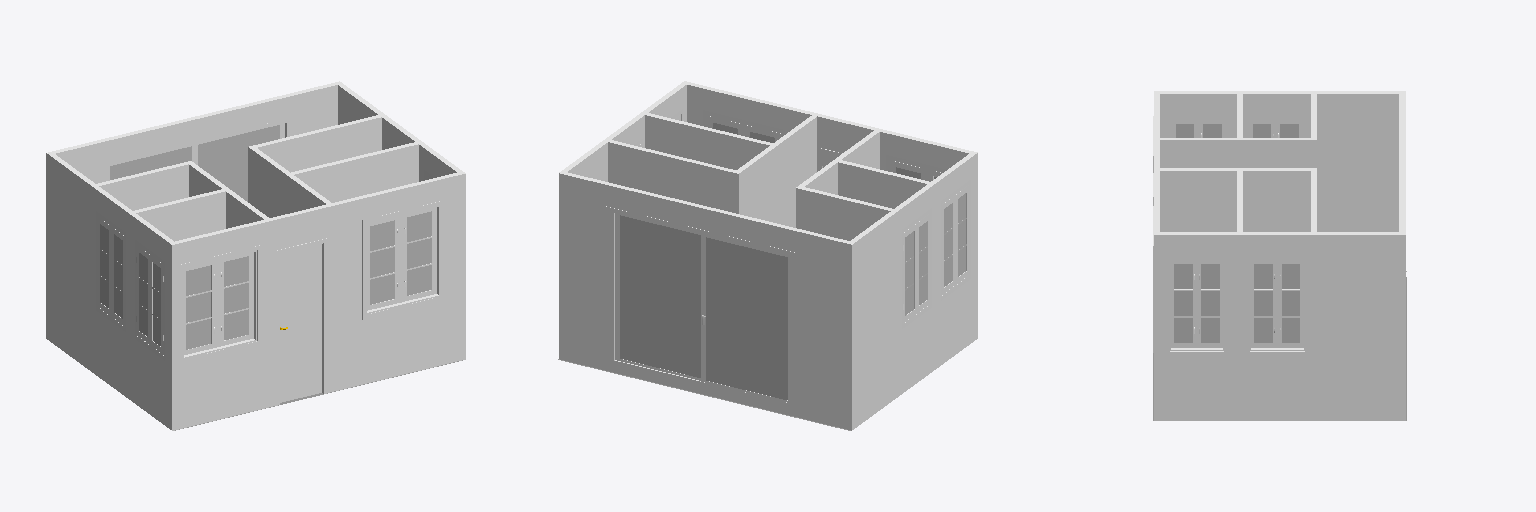
Rendered from casa-modelo-2.obj.
3 renders of one model, left to right at view 1: azimuth 30°, elevation 25°; view 2: azimuth 150°, elevation 25°; view 3: azimuth 270°, elevation 25°, orthographic.
Parts seen in each view (by area): view 1: wall_3_16, wall_4_22, wall_1_5, sweethome3d_opening_on_hinge_1_door_77, wall_10_59, wall_9_53, wall_8_46, sweethome3d_window_pane_on_rail_2_205, wall_11_64, wall_5_29, CageIn_101, CageIn_81 (+21 smaller); view 2: wall_1_4, wall_4_22, sweethome3d_window_pane_on_rail_1_203, sweethome3d_window_pane_on_rail_2_205, wall_3_17, wall_7_40, wall_9_53, window_frame_198, wall_10_58, wall_5_28, wall_11_65, wall_2_11 (+11 smaller); view 3: wall_2_10, wall_4_23, wall_9_52, wall_6_34, CageIn_141, sweethome3d_window_pane_on_hinge_1_129, sweethome3d_window_pane_on_hinge_1_149, sweethome3d_window_pane_on_hinge_2_157, CageIn_121, sweethome3d_window_pane_on_hinge_2_137, sweethome3d_opening_on_hinge_2_in_131, sweethome3d_opening_on_hinge_1_in_124 (+3 smaller).
Boxes of the visible parts, <box> form: wall_3_16: <box>172,174,465,430</box>; wall_4_22: <box>46,153,171,429</box>; wall_1_5: <box>56,85,337,183</box>; sweethome3d_opening_on_hinge_1_door_77: <box>280,244,321,402</box>; wall_10_59: <box>294,144,418,202</box>; wall_9_53: <box>248,147,325,217</box>; wall_8_46: <box>258,118,381,172</box>; sweethome3d_window_pane_on_rail_2_205: <box>198,125,279,201</box>; wall_11_64: <box>136,191,225,241</box>; wall_5_29: <box>99,164,188,210</box>; CageIn_101: <box>179,245,260,364</box>; CageIn_81: <box>362,201,443,319</box>; wall_1_4: <box>559,173,851,430</box>; wall_4_22: <box>852,153,977,429</box>; sweethome3d_window_pane_on_rail_1_203: <box>706,237,787,399</box>; sweethome3d_window_pane_on_rail_2_205: <box>620,215,700,377</box>; wall_3_17: <box>687,85,968,171</box>; wall_7_40: <box>608,143,735,212</box>; wall_9_53: <box>739,117,816,227</box>; window_frame_198: <box>606,206,800,409</box>; wall_10_58: <box>645,115,769,169</box>; wall_5_28: <box>796,188,890,240</box>; wall_11_65: <box>838,162,926,208</box>; wall_2_11: <box>568,85,686,181</box>; wall_2_10: <box>1154,235,1405,420</box>; wall_4_23: <box>1160,94,1398,231</box>; wall_9_52: <box>1160,171,1310,231</box>; wall_6_34: <box>1160,140,1316,167</box>; CageIn_141: <box>1167,256,1226,355</box>; sweethome3d_window_pane_on_hinge_1_129: <box>1254,264,1272,342</box>; sweethome3d_window_pane_on_hinge_1_149: <box>1174,264,1192,342</box>; sweethome3d_window_pane_on_hinge_2_157: <box>1201,264,1219,342</box>; CageIn_121: <box>1247,256,1306,355</box>; sweethome3d_window_pane_on_hinge_2_137: <box>1282,264,1299,342</box>; sweethome3d_opening_on_hinge_2_in_131: <box>1278,261,1303,347</box>; sweethome3d_opening_on_hinge_1_in_124: <box>1251,261,1275,347</box>.
Bounding box in the file's own units: 413 × 250 × 310.